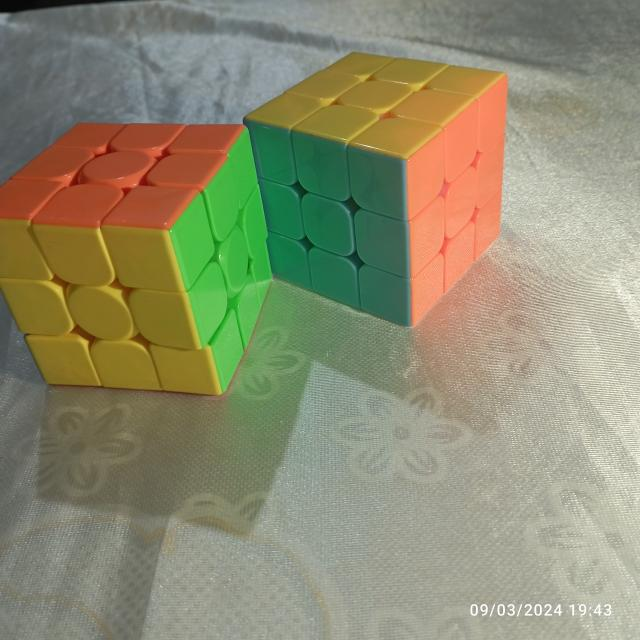Rub: (0, 116, 279, 402), (235, 47, 512, 330)
